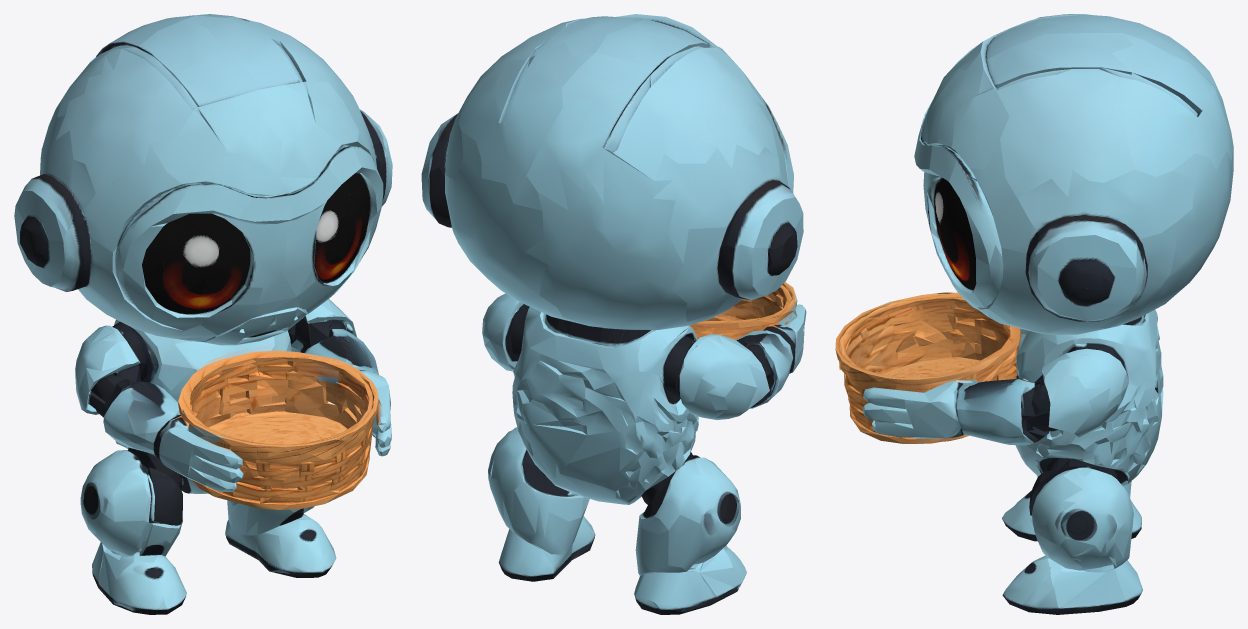
File: player.glb
3 views of the same model, side by side, from view 1: azimuth 30°, elevation 25°; view 2: azimuth 150°, elevation 25°; view 3: azimuth 270°, elevation 25° (orthographic).
Size of the model in its own units: 1.3 by 1.9 by 1.29.
1 material, 1 textured.
